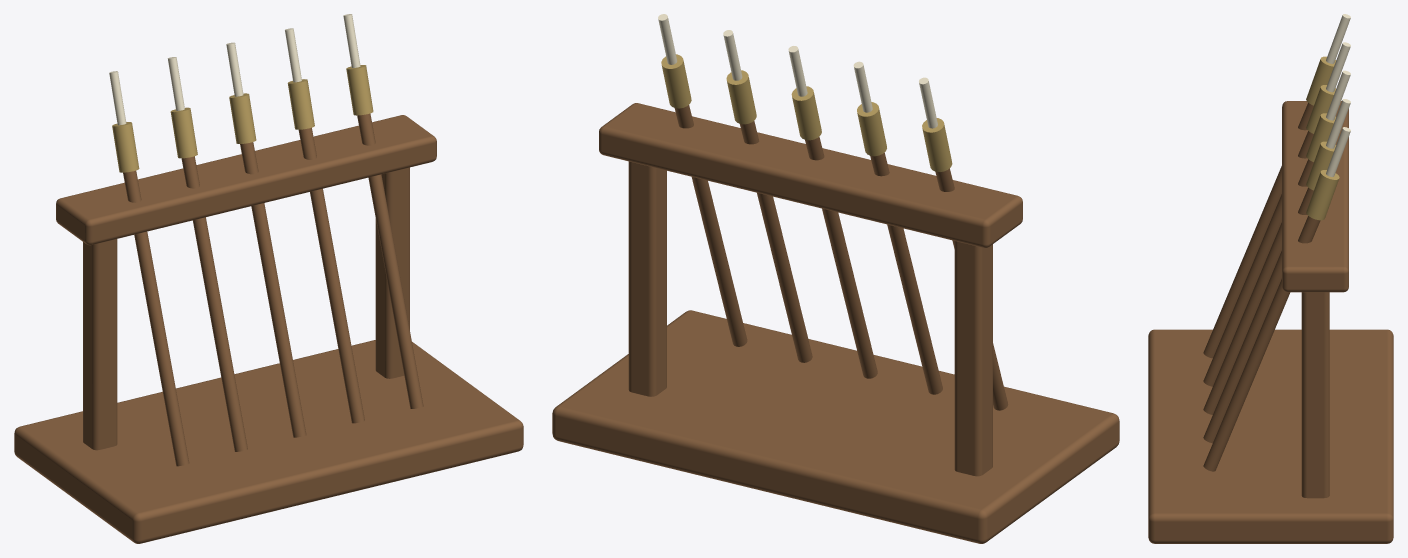
The model's file is fantasy-cartographers-map-printing-guild-fine-map-brus-b09df75f__32261.glb.
The picture shows the model from 3 angles, left to right: view 1: azimuth 30°, elevation 25°; view 2: azimuth 150°, elevation 25°; view 3: azimuth 270°, elevation 25°; orthographic projection. The views are drawn at different scales.
Parts seen in each view (by area): view 1: fine-map-brush-stand; view 2: fine-map-brush-stand; view 3: fine-map-brush-stand.
Boxes of the visible parts, x1,y1,x2,y2 form: fine-map-brush-stand: (14, 14, 523, 543); fine-map-brush-stand: (552, 14, 1119, 543); fine-map-brush-stand: (1148, 14, 1393, 543).
Size of the model in its own units: 0.4 by 0.3763 by 0.22.
